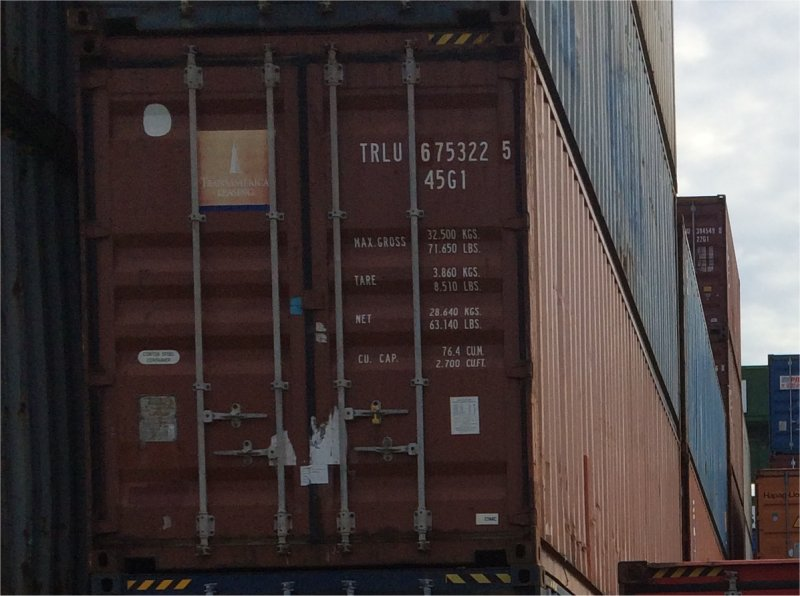container_door: (51, 37, 530, 579)
